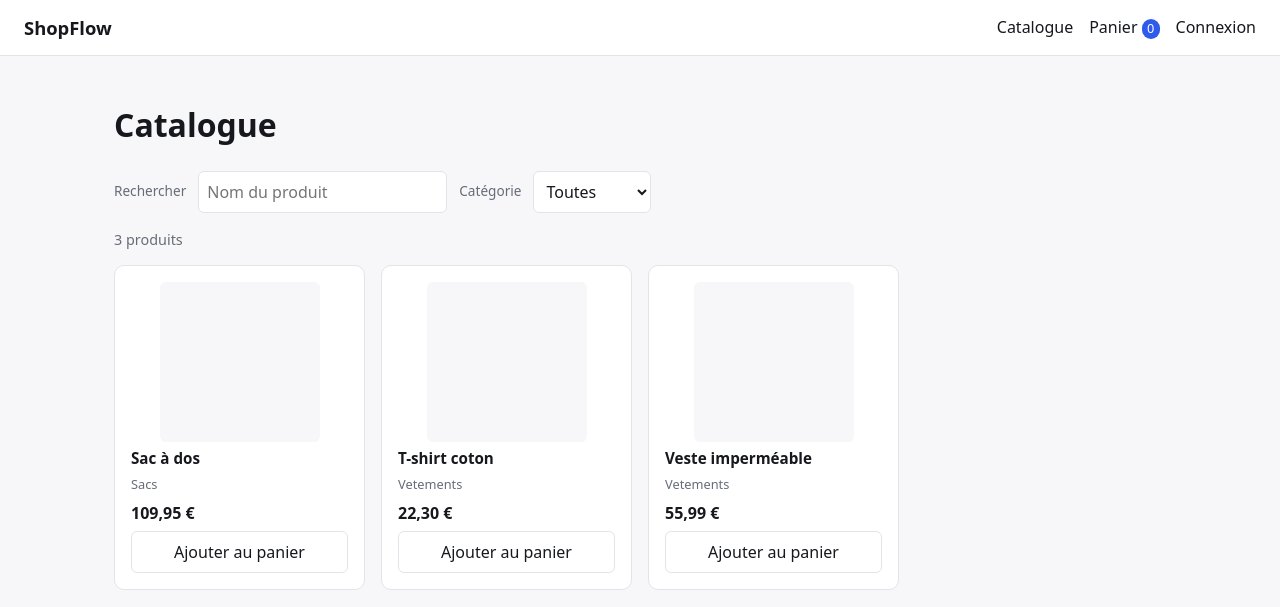
Test: CatalogPage › ajoute un produit au panier et met à jour le compteur den-tête
This screenshot has width=1280, height=607.
Expected: the element with test id "product-1" is shown, [114,265,365,590]
Click the button "Ajouter au panier" below "109,95 €" at point(240, 552), box [131,531,348,573]
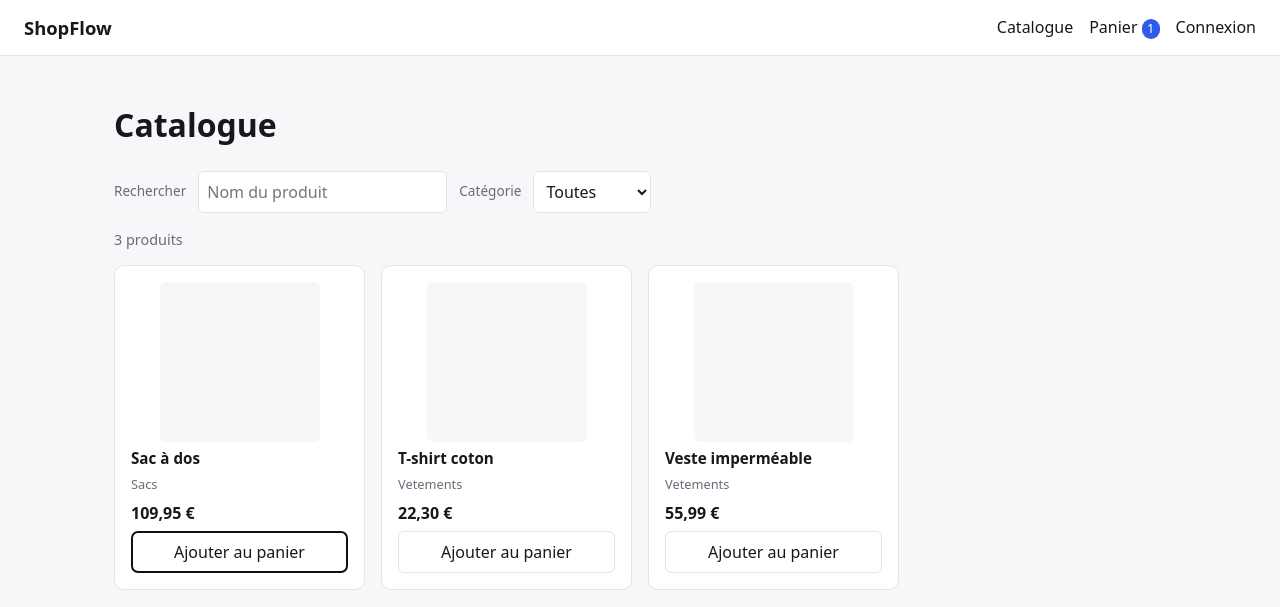
Click the button "Ajouter au panier" below "109,95 €" at point(240, 552), box [131,531,348,573]
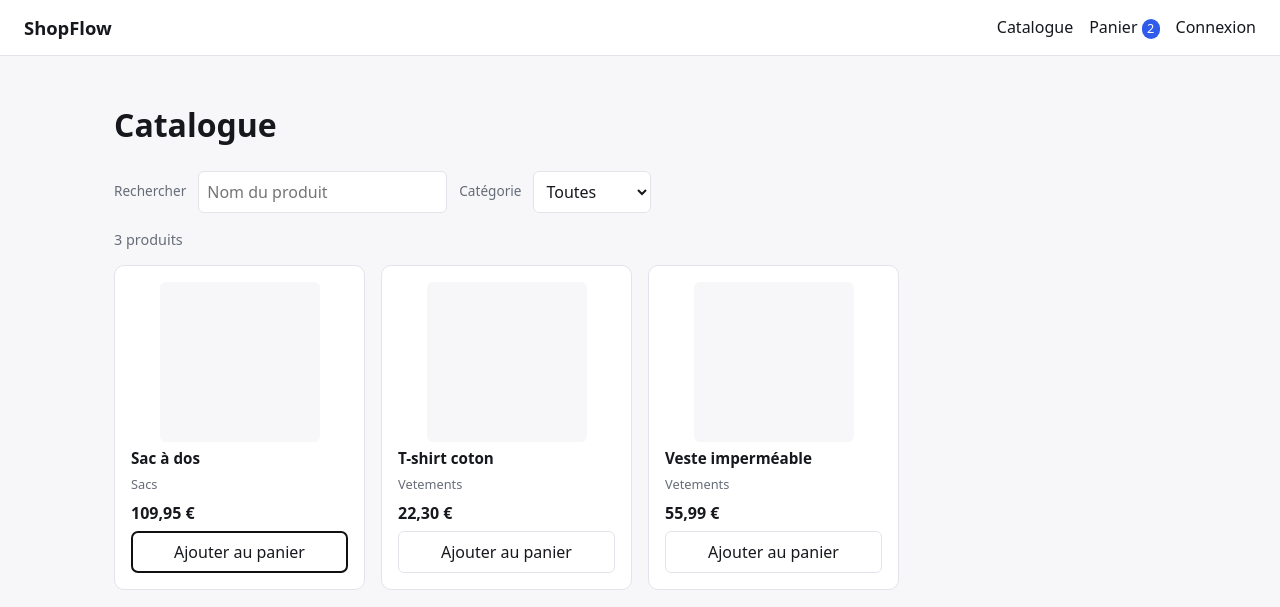
Result: the link with test id "cart-link" shows "2" at [1089,15,1160,39]
